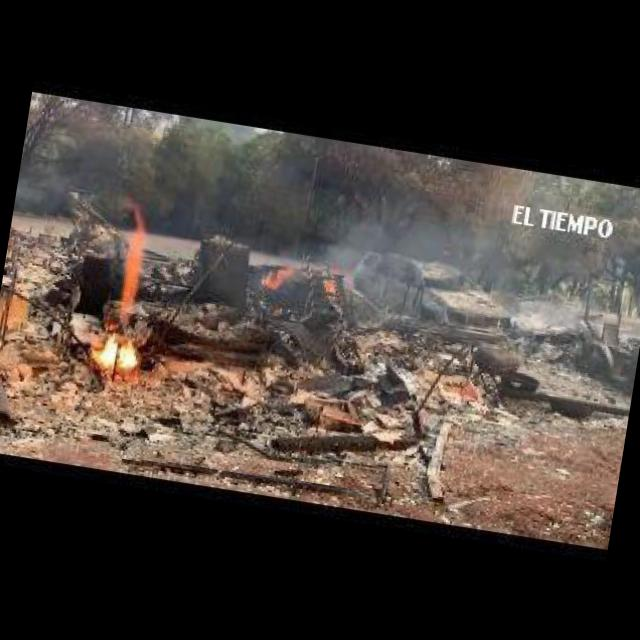fire: (114, 208, 157, 321), (94, 337, 140, 373), (259, 266, 290, 292), (328, 268, 341, 291)
